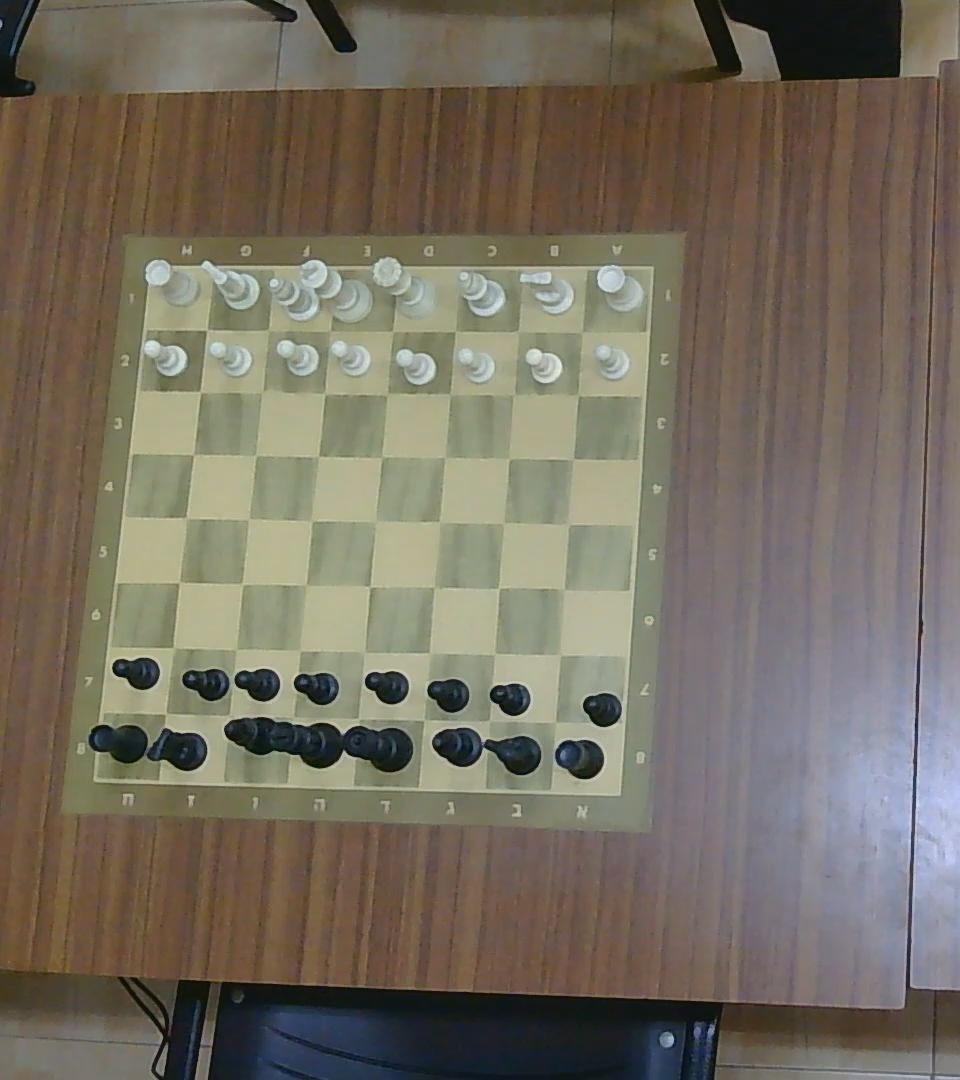xcorner: (345, 707, 370, 733), (379, 318, 403, 342), (154, 701, 178, 725), (278, 707, 301, 730), (217, 703, 239, 727), (542, 712, 566, 732), (162, 637, 184, 658), (478, 711, 500, 732), (319, 320, 341, 340), (288, 639, 310, 659), (365, 511, 386, 531), (169, 572, 189, 592), (483, 644, 503, 664), (414, 710, 434, 730), (225, 639, 245, 659), (183, 443, 202, 464), (440, 383, 459, 403), (423, 577, 442, 597), (429, 511, 448, 531), (420, 643, 440, 662), (372, 447, 391, 466), (296, 574, 315, 593), (196, 319, 215, 338), (259, 319, 278, 338), (550, 645, 569, 664), (504, 385, 523, 404), (354, 642, 374, 660), (315, 383, 333, 402), (377, 383, 395, 402), (361, 577, 379, 596), (177, 508, 195, 527), (446, 321, 464, 340), (253, 382, 272, 400), (559, 515, 578, 533), (573, 321, 591, 340), (233, 574, 251, 593), (510, 321, 528, 340), (570, 385, 588, 404), (489, 579, 507, 598), (555, 579, 573, 598), (435, 448, 453, 466), (190, 382, 208, 400), (240, 510, 258, 528), (500, 448, 518, 466), (247, 446, 265, 464), (303, 510, 320, 529), (495, 513, 512, 532), (309, 446, 326, 464), (565, 450, 582, 467)
